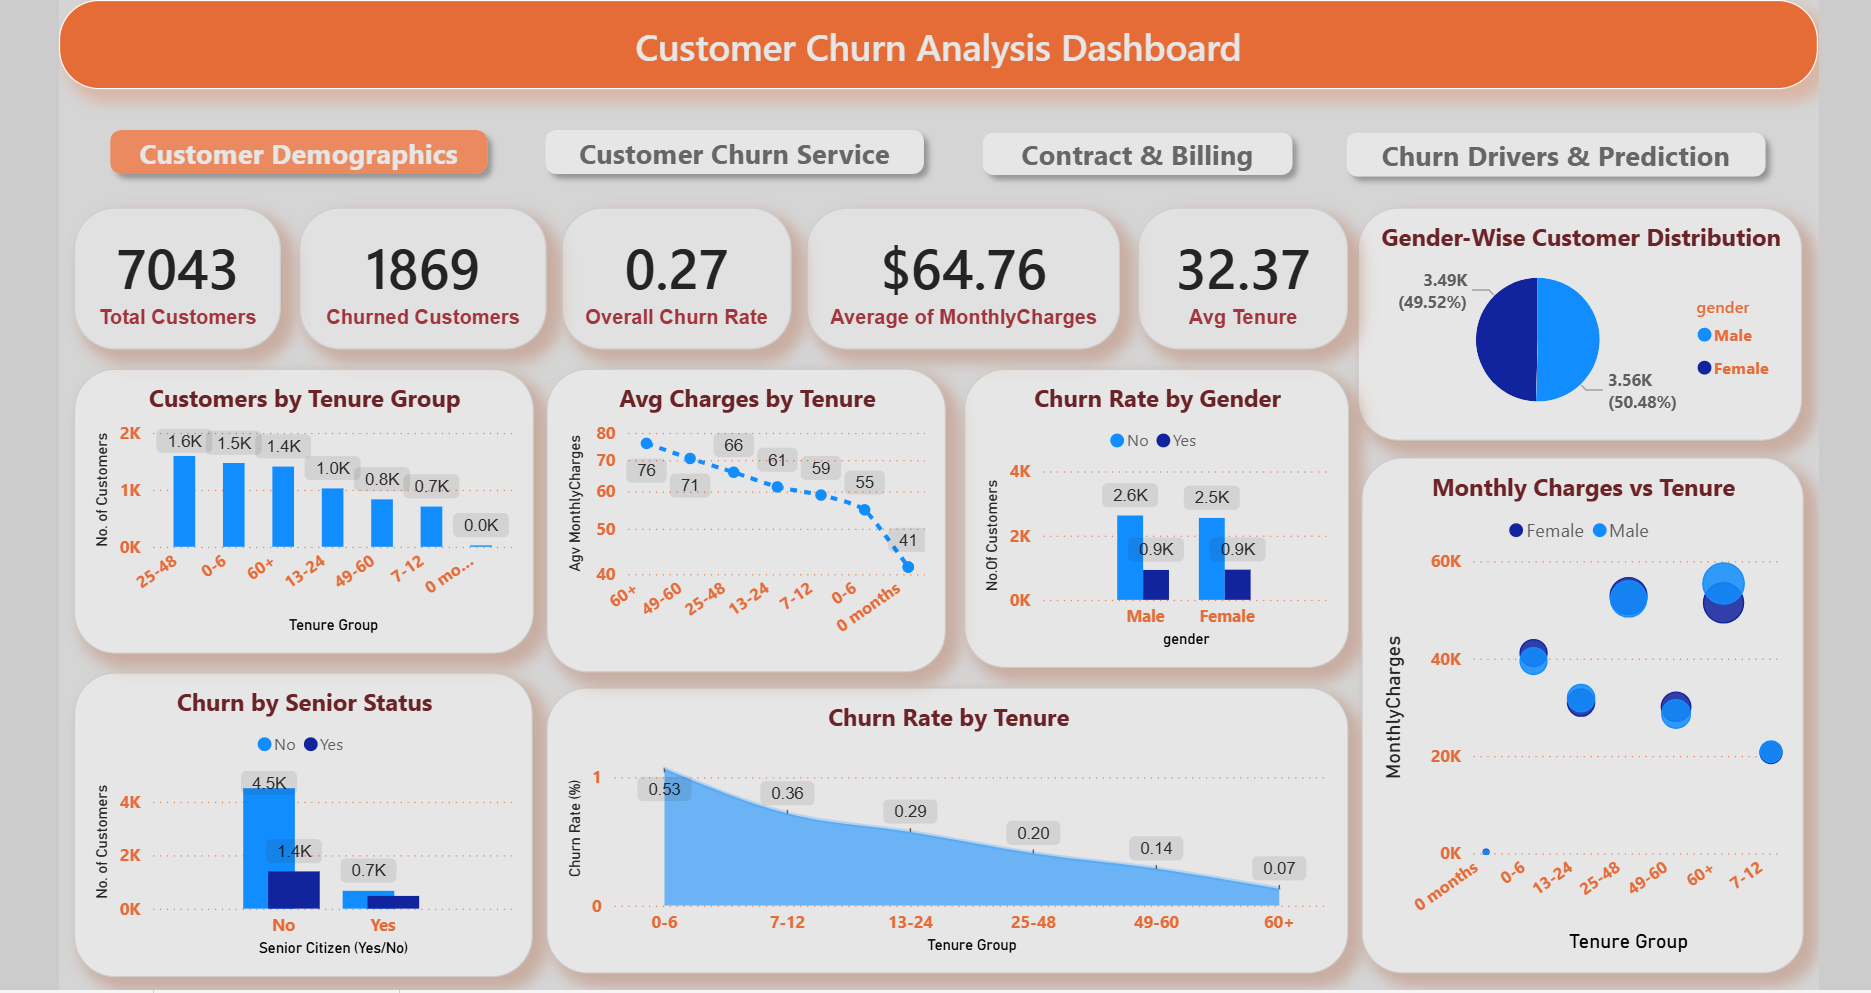

The page's visual inventory and layout, read from the dashboard file:
{"tool":"powerbi","page":{"name":"Page 1","canvas":[1280,720],"ordinal":0},"visuals":[{"type":"pieChart","title":"Gender-Wise Customer Distribution","fields":{"Category":["DATASET.gender"],"Y":["CountNonNull(DATASET.customerID)"]},"box":[944.7,150.6,323.5,169.4],"z":0},{"type":"clusteredColumnChart","title":" Churn Rate by Gender","fields":{"Category":["DATASET.gender"],"Series":["DATASET.Churn"],"Y":["CountNonNull(DATASET.customerID)"]},"box":[657.9,267.8,280,217.7],"z":1000},{"type":"clusteredColumnChart","title":"Churn by Senior Status","fields":{"Category":["DATASET.SeniorCitizenFlag"],"Series":["DATASET.Churn"],"Y":["CountNonNull(DATASET.customerID)"]},"box":[11,489.1,333.8,221.3],"z":2000},{"type":"clusteredColumnChart","title":"Customers by Tenure Group","fields":{"Y":["CountNonNull(DATASET.customerID)"],"Category":["DATASET.Tenure Group"]},"box":[10.6,268.2,334.1,207.1],"z":3000},{"type":"lineChart","title":"Churn Rate by Tenure","fields":{"Category":["DATASET.Tenure Group"],"Y":["DATASET.Churn Rate Numeric"]},"box":[354.1,500,583.5,208.2],"z":4000},{"type":"scatterChart","title":"Monthly Charges vs Tenure","fields":{"X":["DATASET.Tenure Group"],"Size":["Sum(DATASET.Num Services)"],"Y":["Sum(DATASET.MonthlyCharges)"],"Series":["DATASET.gender"]},"box":[947.5,332.5,321.2,375],"z":5000},{"type":"card","fields":{"Values":["DATASET.Avg Tenure"]},"box":[784.7,150.6,152.9,103.5],"z":6000},{"type":"card","fields":{"Values":["Avg(DATASET.MonthlyCharges)"]},"box":[543.5,150.6,228.2,103.5],"z":7000},{"type":"card","fields":{"Values":["DATASET.Overall Churn Rate"]},"box":[365.9,150.6,167.1,103.5],"z":8000},{"type":"card","fields":{"Values":["DATASET.Churned Customers"]},"box":[174.1,150.6,180,103.5],"z":9000},{"type":"card","fields":{"Values":["DATASET.Total Customers"]},"box":[10.6,150.6,150.6,103.5],"z":10000},{"type":"textbox","box":[0,0,1279.1,64.8],"z":11000},{"type":"lineChart","title":"Avg Charges by Tenure","fields":{"Category":["DATASET.Tenure Group"],"Y":["Avg(DATASET.MonthlyCharges)"]},"box":[354.1,268.2,290.6,221.2],"z":12000},{"type":"shape","box":[28.1,85.6,292.3,50.1],"z":13000},{"type":"shape","box":[344.8,85.6,293.5,50.1],"z":14000},{"type":"shape","box":[662.8,86.8,243.3,48.9],"z":15000},{"type":"shape","box":[926.9,86.8,322.8,50.1],"z":16000}]}

Visuals, with their boxes on the page's 1280x720 design canvas (x1, y1, x2, y2). These are canvas units, not pixel positions in the 1871x993 screenshot, which may show the page scaled, cropped or inside an application window:
"Gender-Wise Customer Distribution" pieChart: <region>945, 151, 1268, 320</region>
" Churn Rate by Gender" clusteredColumnChart: <region>658, 268, 938, 486</region>
"Churn by Senior Status" clusteredColumnChart: <region>11, 489, 345, 710</region>
"Customers by Tenure Group" clusteredColumnChart: <region>11, 268, 345, 475</region>
"Churn Rate by Tenure" lineChart: <region>354, 500, 938, 708</region>
"Monthly Charges vs Tenure" scatterChart: <region>948, 332, 1269, 708</region>
card - DATASET.Avg Tenure: <region>785, 151, 938, 254</region>
card - Avg(DATASET.MonthlyCharges): <region>544, 151, 772, 254</region>
card - DATASET.Overall Churn Rate: <region>366, 151, 533, 254</region>
card - DATASET.Churned Customers: <region>174, 151, 354, 254</region>
card - DATASET.Total Customers: <region>11, 151, 161, 254</region>
textbox: <region>0, 0, 1279, 65</region>
"Avg Charges by Tenure" lineChart: <region>354, 268, 645, 489</region>
shape: <region>28, 86, 320, 136</region>
shape: <region>345, 86, 638, 136</region>
shape: <region>663, 87, 906, 136</region>
shape: <region>927, 87, 1250, 137</region>
